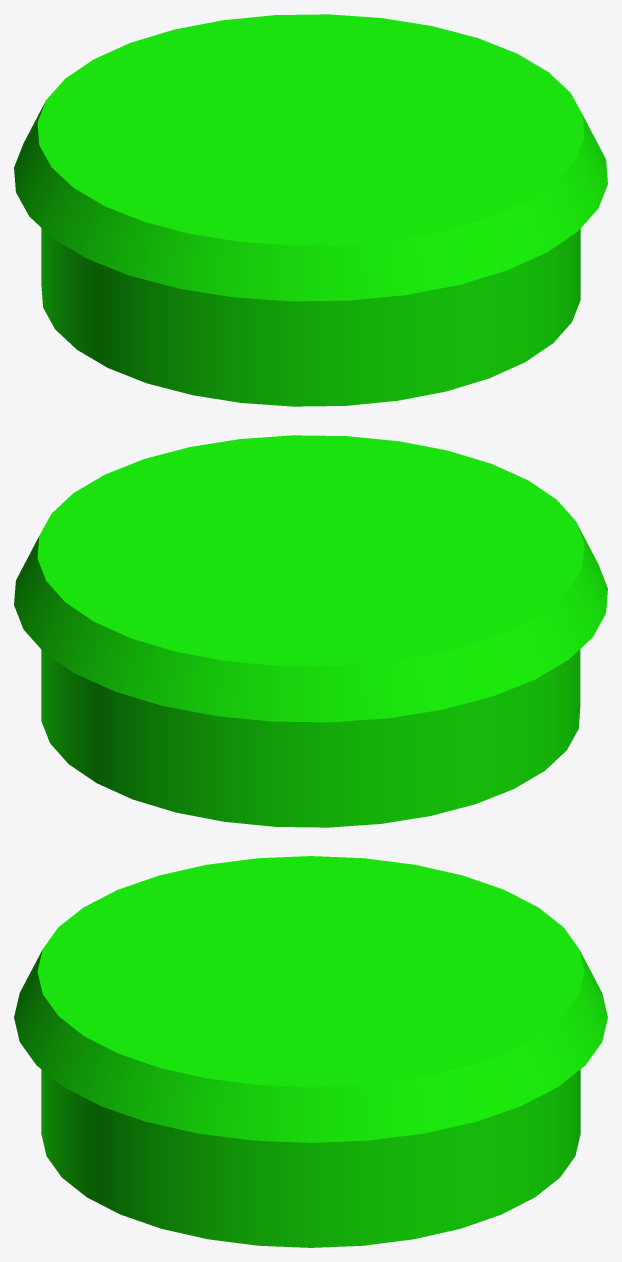
The model's file is platform.obj.
The picture shows the model from 3 angles, top to bottom: view 1: azimuth 30°, elevation 25°; view 2: azimuth 150°, elevation 25°; view 3: azimuth 270°, elevation 25°; orthographic projection.
Visible parts, largest first — view 1: Cylinder; view 2: Cylinder; view 3: Cylinder.
Part boxes in pixels (<box>): Cylinder: <box>14,14,607,406</box>; Cylinder: <box>14,435,607,827</box>; Cylinder: <box>14,856,607,1247</box>.
Bounding box in the file's own units: 9.16 × 2.76 × 9.16.
